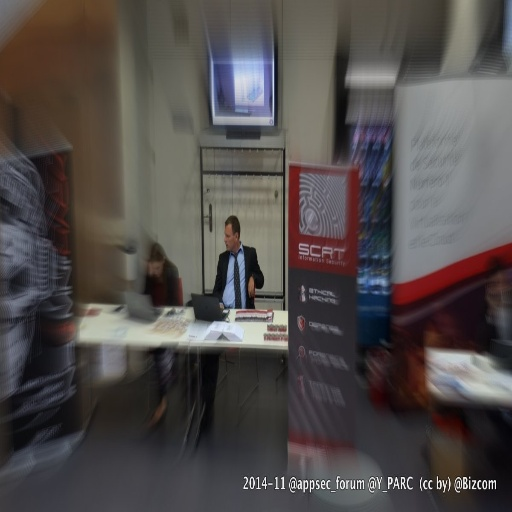hand: (245, 272, 253, 295), (145, 263, 153, 278), (218, 301, 225, 310)
